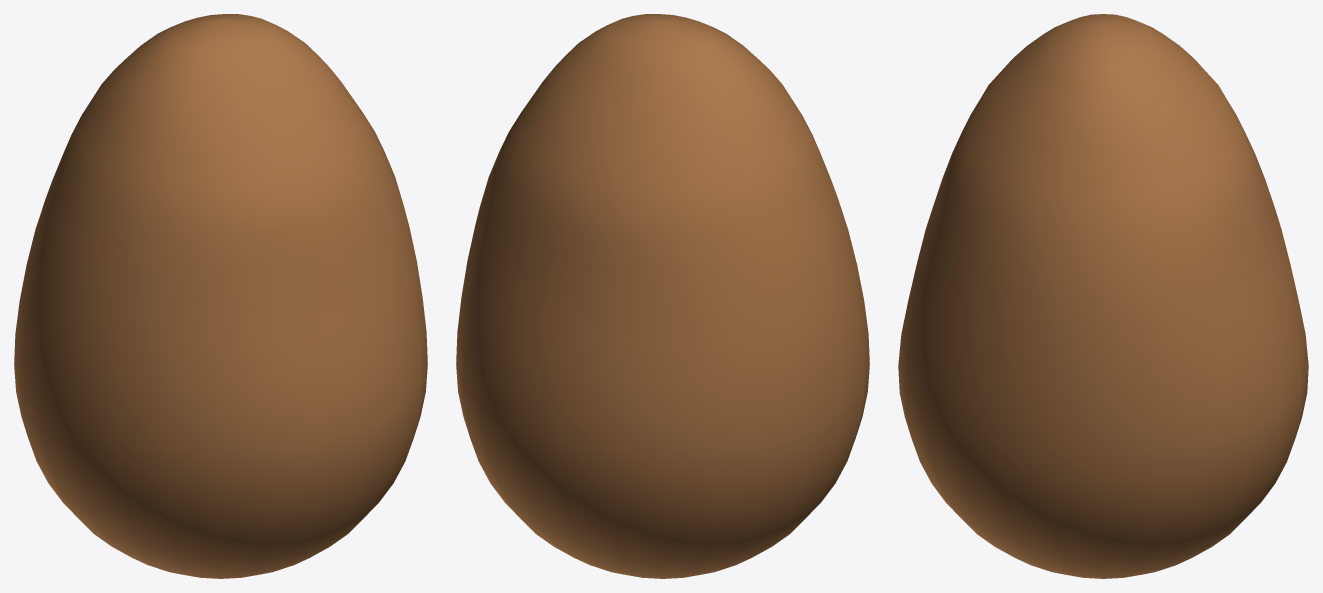
3 views of the same model, side by side, from view 1: azimuth 30°, elevation 25°; view 2: azimuth 150°, elevation 25°; view 3: azimuth 270°, elevation 25° (orthographic).
Visible parts, largest first — view 1: Capsule002; view 2: Capsule002; view 3: Capsule002.
Boxes of the visible parts, x1,y1,x2,y2 form: Capsule002: (14, 14, 427, 578); Capsule002: (456, 14, 869, 578); Capsule002: (898, 14, 1308, 578).
Size of the model in its own units: 113 by 162 by 112.
